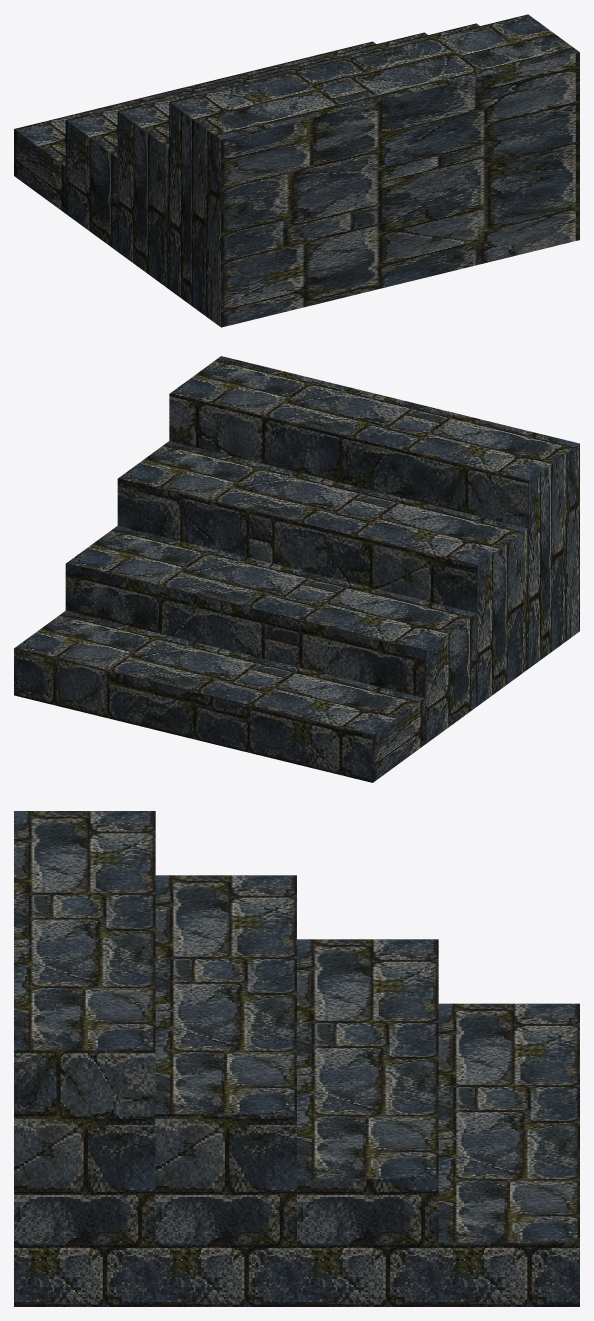
File: M_Escada_4_Degraus.obj
The picture shows the model from 3 angles, top to bottom: view 1: azimuth 30°, elevation 25°; view 2: azimuth 150°, elevation 25°; view 3: azimuth 270°, elevation 25°; orthographic projection. The views are drawn at different scales.
Parts seen in each view (by area): view 1: M_Escada_4_Degraus; view 2: M_Escada_4_Degraus; view 3: M_Escada_4_Degraus.
Boxes of the visible parts, x1=… form: M_Escada_4_Degraus: x1=14, y1=14, x2=579, y2=327; M_Escada_4_Degraus: x1=14, y1=356, x2=579, y2=782; M_Escada_4_Degraus: x1=14, y1=811, x2=579, y2=1306.
Size of the model in its own units: 2 by 1 by 2.
1 material, 1 textured.
